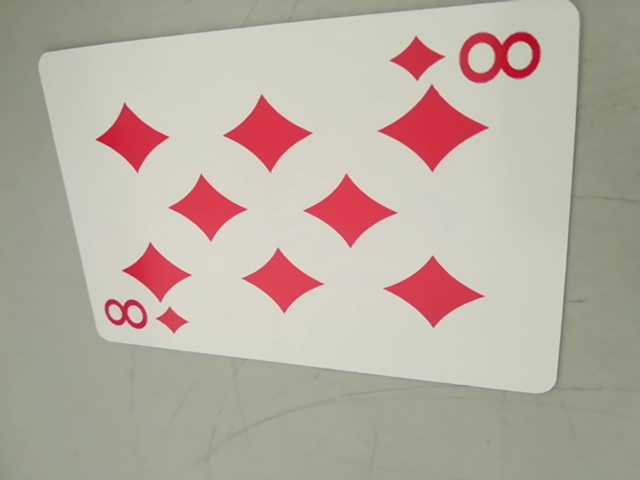fk 8: (394, 24, 543, 93), (99, 293, 188, 340)
